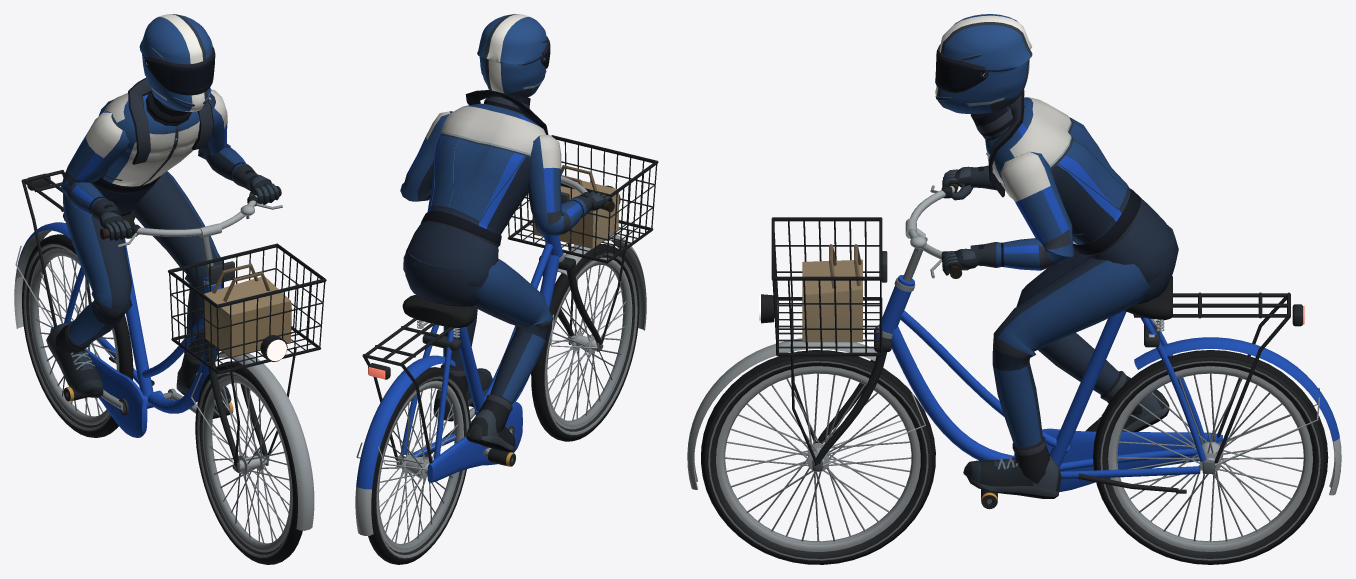
Rendered from bicycle_real.glb.
3 views of the same model, side by side, from view 1: azimuth 30°, elevation 25°; view 2: azimuth 150°, elevation 25°; view 3: azimuth 270°, elevation 25° (orthographic). The views are drawn at different scales.
Visible parts, largest first — view 1: steerFL, body, wheelFL, torso, wheelRL, head, thighL, thighR, shinR, shinL, crank; view 2: body, torso, wheelFL, steerFL, wheelRL, head, shinR, thighR, shinL, crank; view 3: body, wheelFL, wheelRL, steerFL, torso, head, shinL, thighL, shinR, thighR.
Boxes of the visible parts, bbox=[...] form: steerFL: bbox=[100, 186, 326, 530]; body: bbox=[14, 89, 279, 437]; wheelFL: bbox=[195, 361, 302, 564]; torso: bbox=[91, 77, 213, 213]; wheelRL: bbox=[22, 234, 133, 437]; head: bbox=[139, 14, 215, 111]; thighL: bbox=[131, 171, 222, 284]; thighR: bbox=[63, 191, 131, 317]; shinR: bbox=[46, 291, 132, 397]; shinL: bbox=[176, 253, 231, 407]; crank: bbox=[63, 386, 233, 418]; body: bbox=[355, 111, 612, 535]; torso: bbox=[404, 90, 548, 286]; wheelFL: bbox=[531, 244, 639, 441]; steerFL: bbox=[507, 135, 658, 351]; wheelRL: bbox=[368, 367, 470, 564]; head: bbox=[477, 14, 550, 97]; shinR: bbox=[466, 313, 553, 452]; thighR: bbox=[473, 259, 552, 327]; shinL: bbox=[433, 307, 492, 421]; crank: bbox=[469, 404, 515, 466]; body: bbox=[875, 97, 1341, 495]; wheelFL: bbox=[701, 350, 935, 564]; wheelRL: bbox=[1093, 350, 1328, 564]; steerFL: bbox=[687, 183, 962, 489]; torso: bbox=[970, 90, 1174, 283]; head: bbox=[935, 14, 1032, 113]; shinL: bbox=[963, 324, 1061, 498]; thighL: bbox=[1002, 258, 1150, 351]; shinR: bbox=[1038, 333, 1169, 431]; thighR: bbox=[1016, 247, 1085, 306].
Size of the model in its own units: 0.6503 by 1.69 by 1.83.
